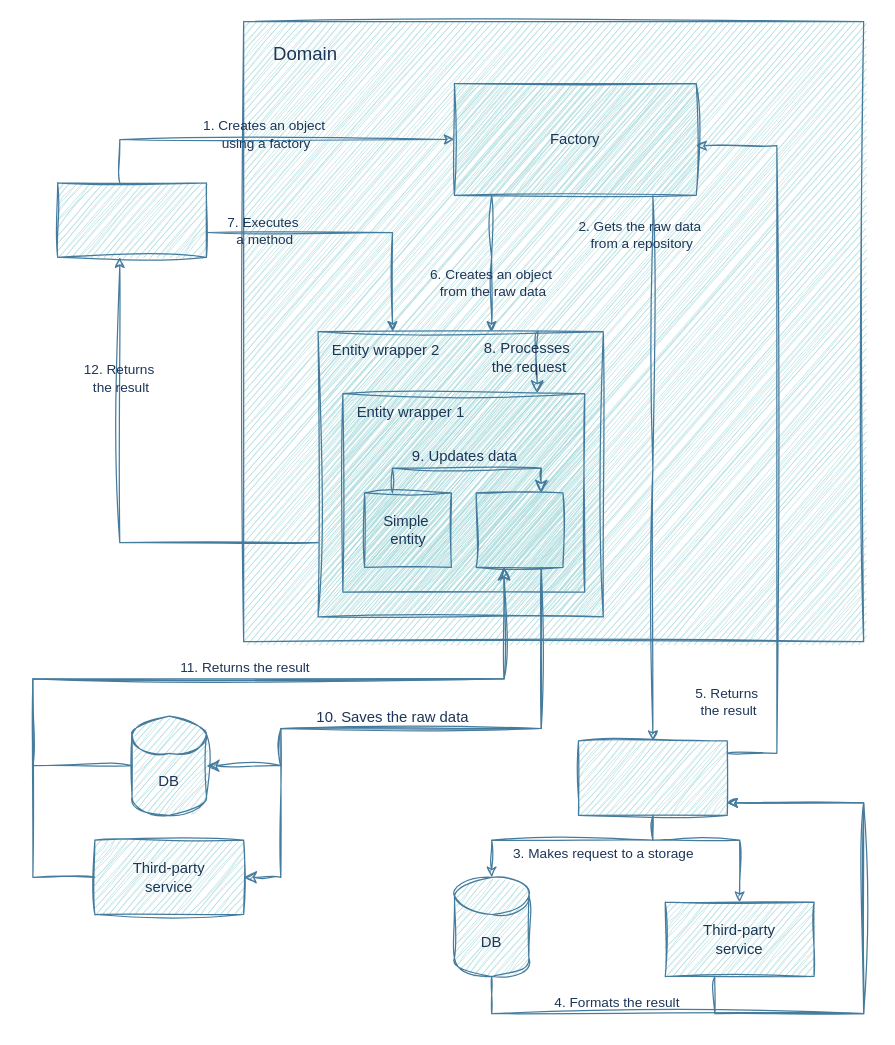
This 895x1045 diagram has some shape labels left out. The box of each missing label's shape, as (x1, y1, x2, y2) in pixels:
Controller: (56, 182, 206, 257)
Repository: (577, 740, 727, 815)
Saver: (475, 492, 563, 567)
